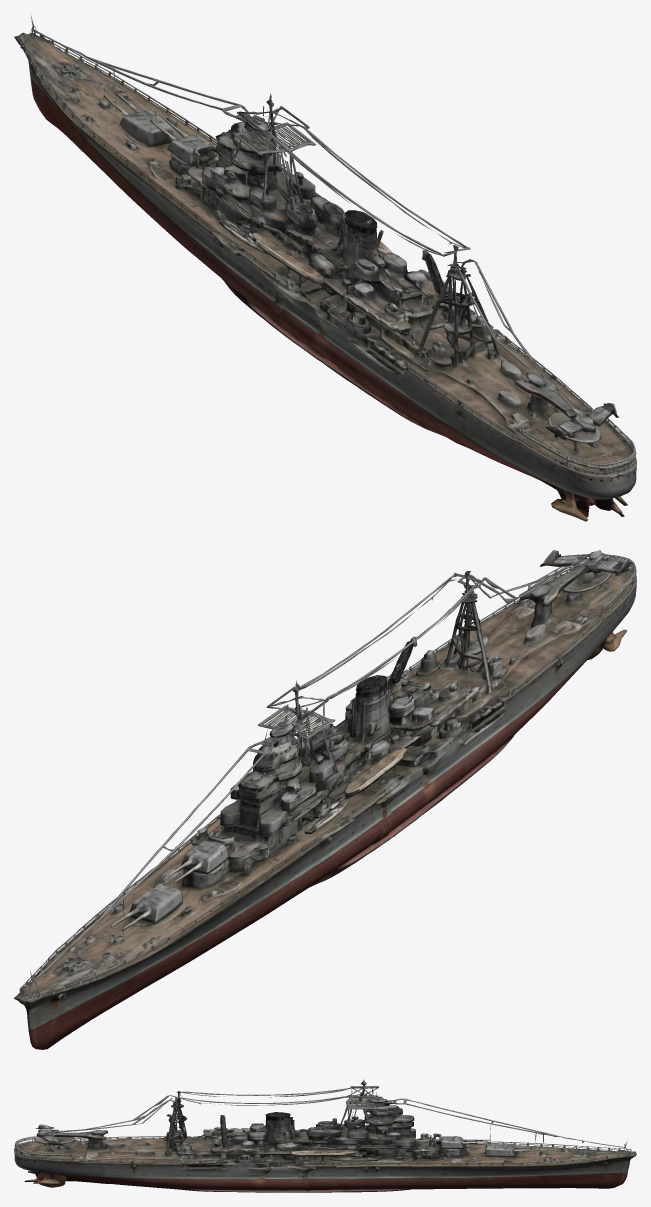
The model's file is cruiser.tone.glb.
3 renders of one model, top to bottom at view 1: azimuth 30°, elevation 25°; view 2: azimuth 150°, elevation 25°; view 3: azimuth 270°, elevation 25°, orthographic. The views are drawn at different scales.
Parts seen in each view (by area): view 1: tripo_node_8cd1e64b-9295-4142-8e1e-a3bb28cfbef7; view 2: tripo_node_8cd1e64b-9295-4142-8e1e-a3bb28cfbef7; view 3: tripo_node_8cd1e64b-9295-4142-8e1e-a3bb28cfbef7.
Part boxes in pixels (x1=…): tripo_node_8cd1e64b-9295-4142-8e1e-a3bb28cfbef7: x1=14, y1=16, x2=636, y2=521; tripo_node_8cd1e64b-9295-4142-8e1e-a3bb28cfbef7: x1=14, y1=550, x2=636, y2=1049; tripo_node_8cd1e64b-9295-4142-8e1e-a3bb28cfbef7: x1=14, y1=1078, x2=636, y2=1192.
Bounding box in the file's own units: 22.13 × 38 × 202.
1 material, 1 textured.
